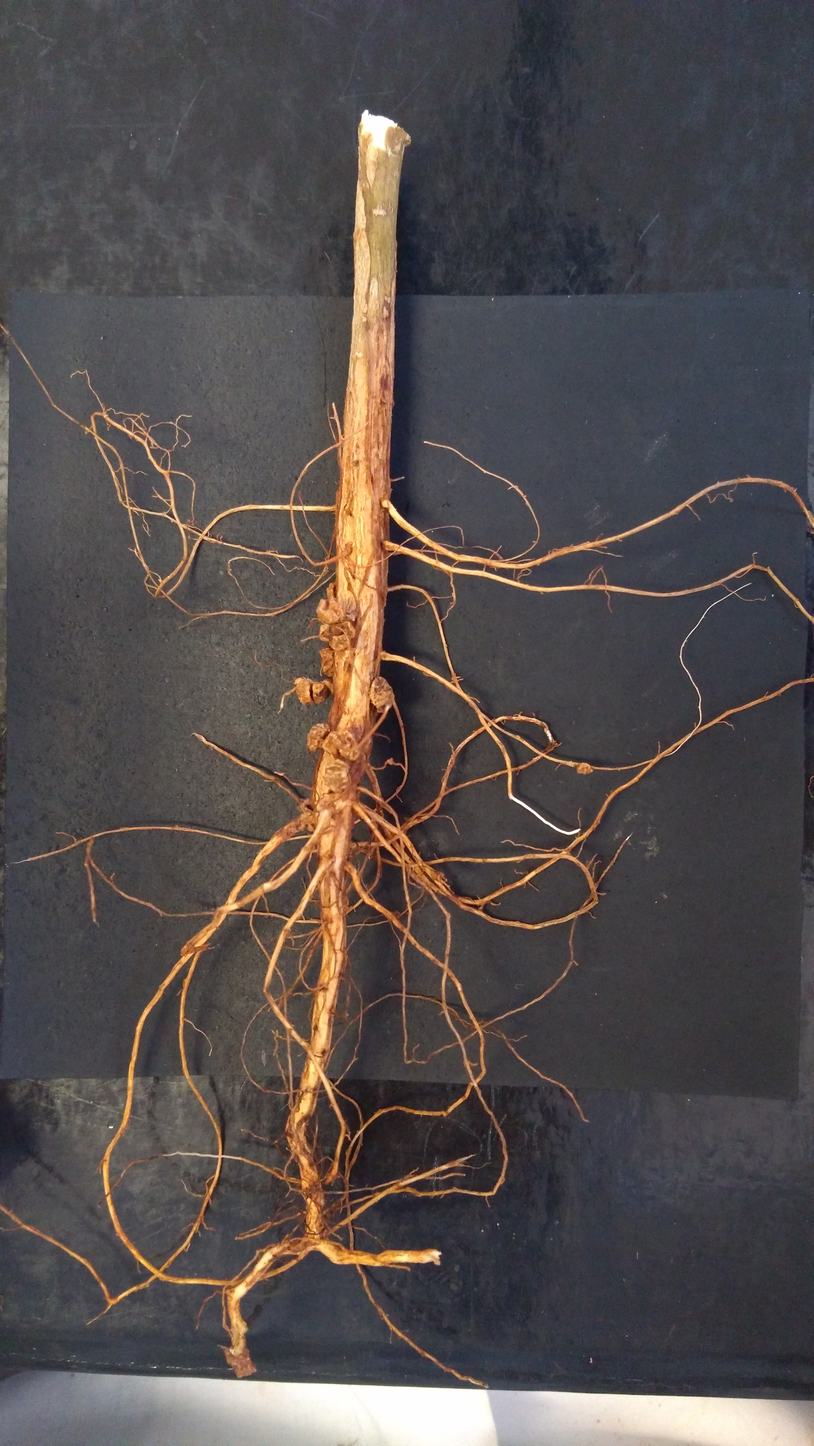nodule: (317, 754, 352, 806), (321, 729, 361, 762), (224, 1348, 257, 1379), (369, 676, 395, 713), (296, 679, 330, 706), (316, 598, 344, 626), (306, 723, 330, 754), (338, 589, 356, 621), (328, 625, 349, 652), (319, 643, 335, 678), (331, 620, 357, 639), (318, 622, 330, 642), (576, 762, 594, 775), (430, 870, 444, 882), (393, 910, 402, 919), (307, 825, 315, 833), (387, 756, 394, 765), (350, 842, 357, 850)
